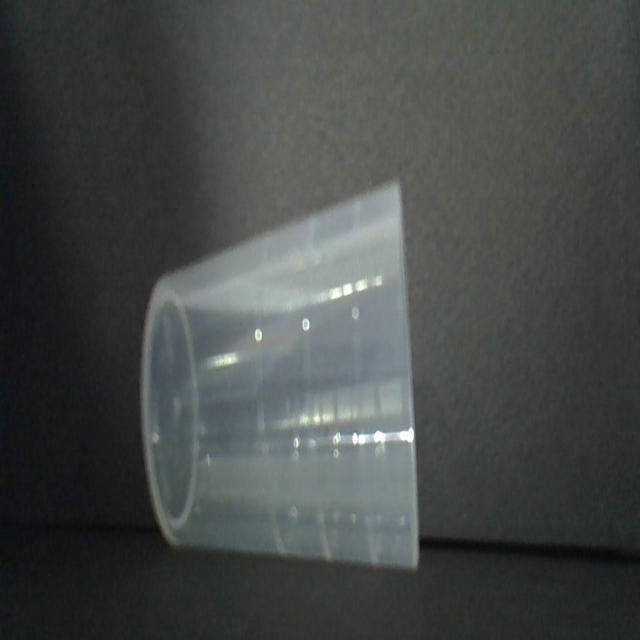cup: (139, 173, 427, 575)
